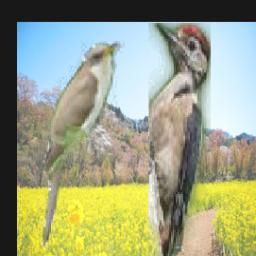Cuckoo: (40, 36, 125, 249)
Woodpecker: (148, 23, 211, 256)
